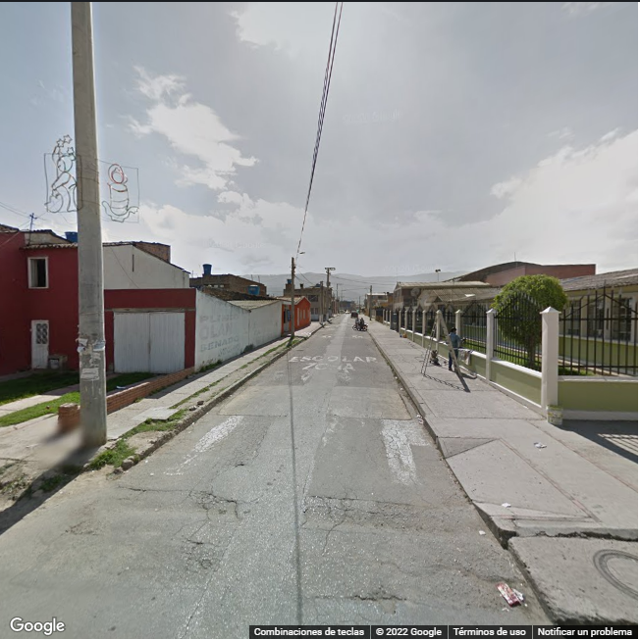D00: (317, 500, 352, 560), (186, 512, 213, 544)
D10: (321, 588, 415, 605), (116, 484, 207, 498), (376, 557, 425, 578)
